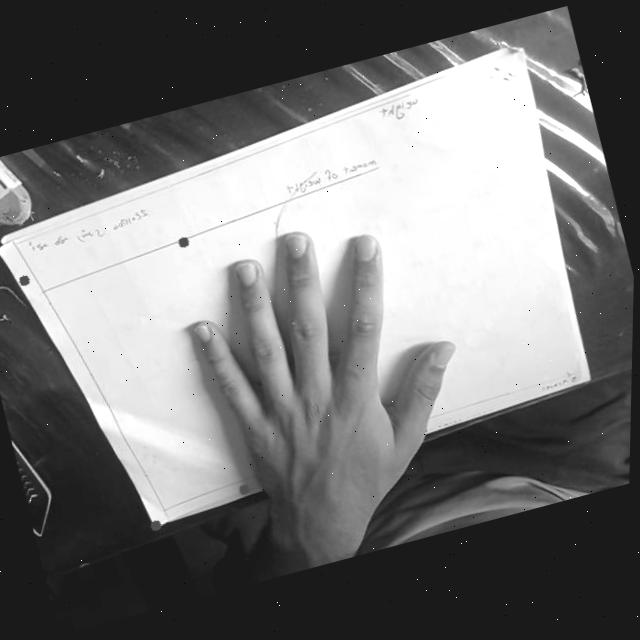document: (0, 49, 590, 523)
